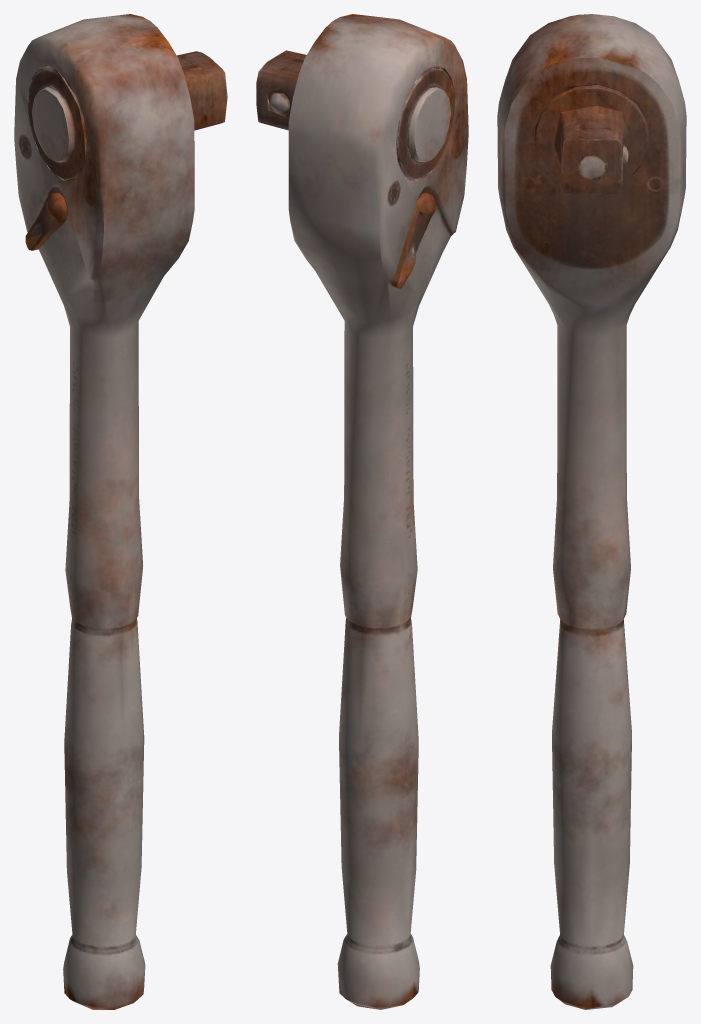
The model's file is ratchet_wrench.glb.
3 views of the same model, side by side, from view 1: azimuth 30°, elevation 25°; view 2: azimuth 150°, elevation 25°; view 3: azimuth 270°, elevation 25° (orthographic).
Parts seen in each view (by area): view 1: ratchet_wrench; view 2: ratchet_wrench; view 3: ratchet_wrench.
Boxes of the visible parts, <box> form: ratchet_wrench: <box>14,14,227,1009</box>; ratchet_wrench: <box>256,14,468,1009</box>; ratchet_wrench: <box>497,14,686,1009</box>.
Size of what is drawn, in the model's own units: 0.044 by 0.2462 by 0.0436.
Materials: 1 (1 with a texture image).
